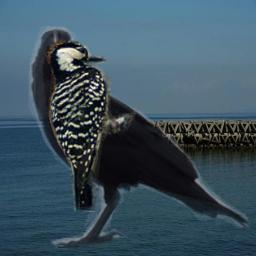Crow: (27, 26, 250, 248)
Woodpecker: (45, 37, 136, 212)
